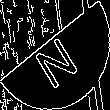N_NW: (28, 23, 82, 87)
